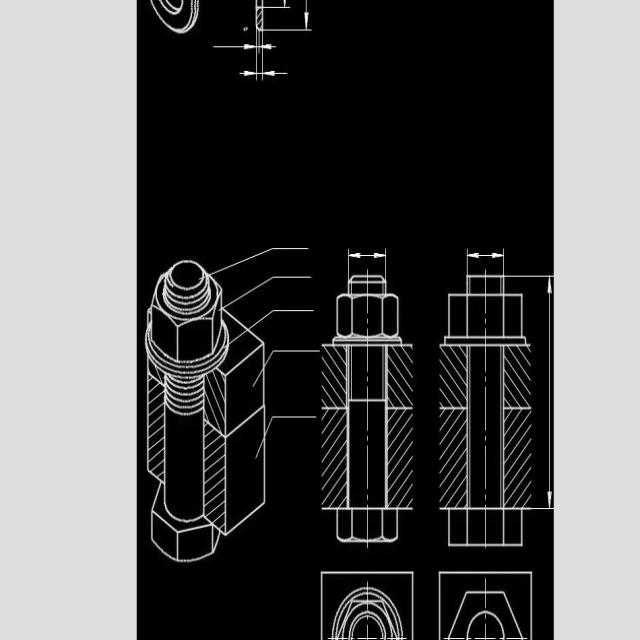marking_line: (532, 274, 554, 511), (213, 31, 288, 80), (263, 0, 314, 32), (213, 32, 277, 54), (466, 247, 505, 276), (347, 248, 387, 275), (264, 0, 294, 11)
special_symbol: (242, 27, 249, 31)
